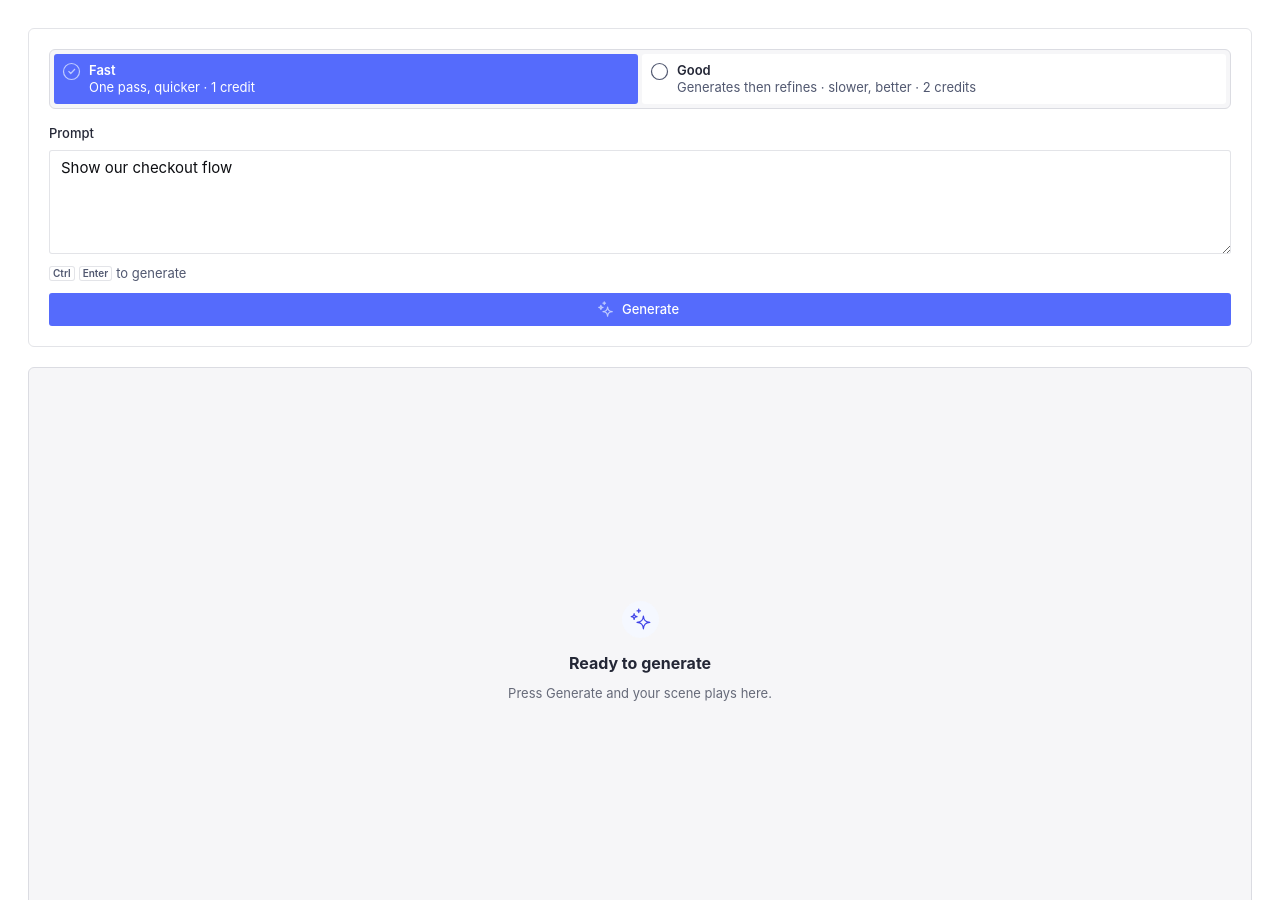
Test: AnimationWorkspace: generating › shows the budget message when Agent Actions answer 429
Click the button "Generate" at (640, 310), box left=49, top=293, right=1231, bottom=326
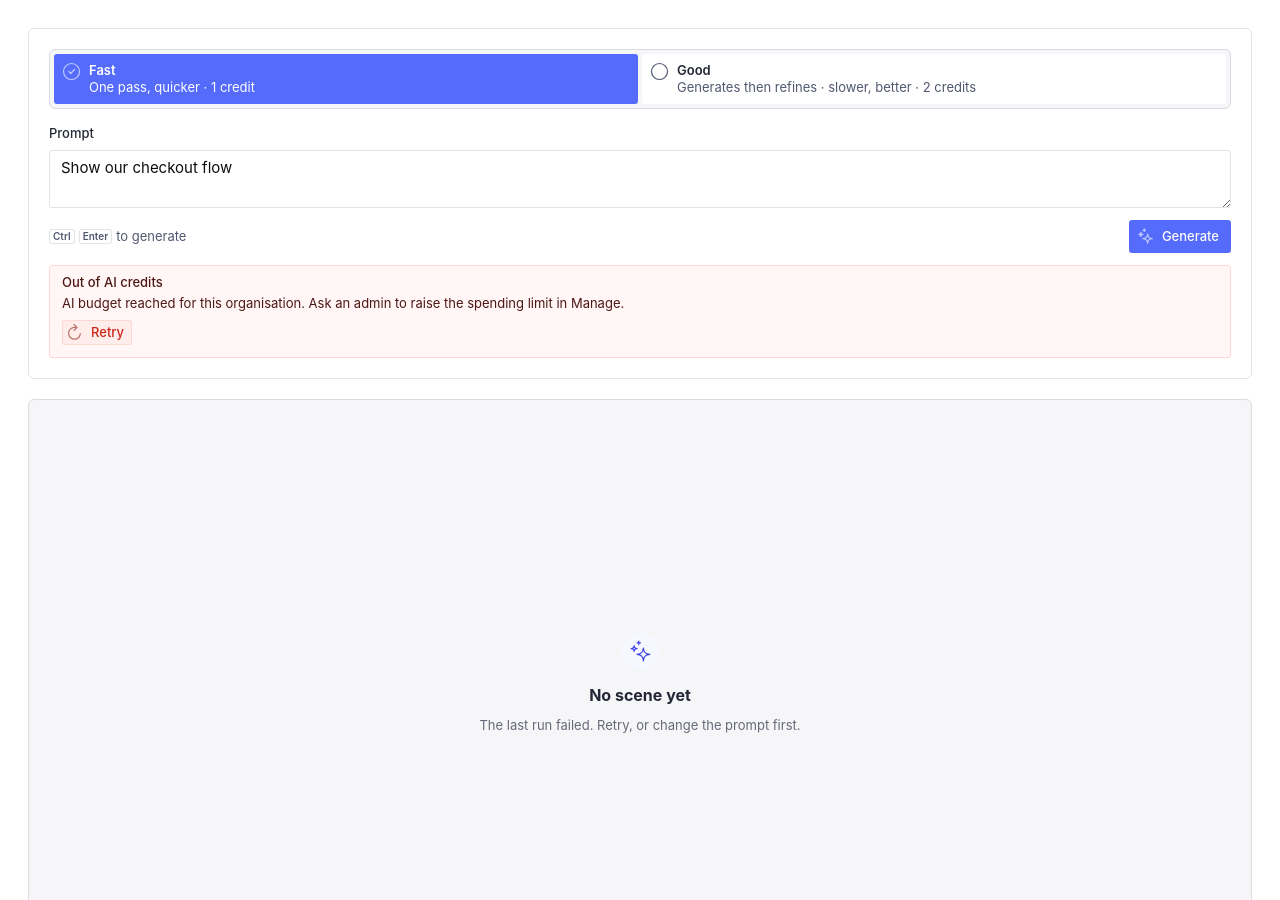
Expected: the button "Generate" is enabled, left=1129, top=220, right=1231, bottom=253
Expected: the message shows "Out of AI credits", left=62, top=274, right=163, bottom=290
Expected: the message shows "AI budget reached for this organisation. Ask an admin to raise the spending limit in Manage.", left=62, top=295, right=624, bottom=311
